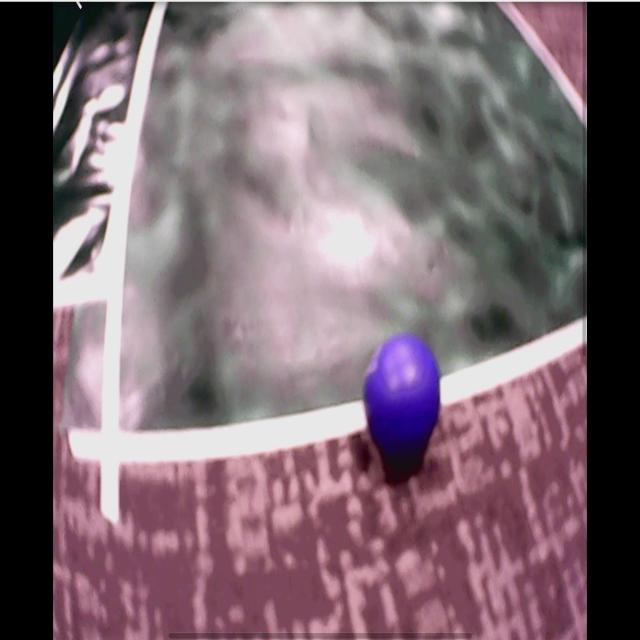ball: (362, 336, 444, 457)
